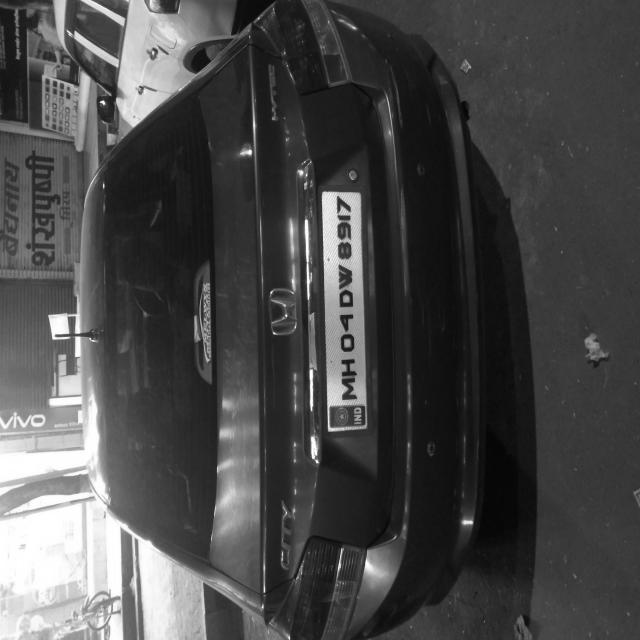car: (0, 49, 480, 640)
license-plate: (152, 427, 348, 492)
